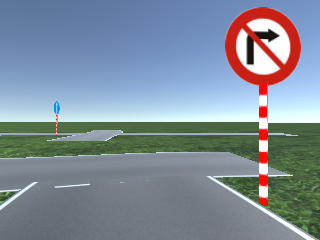-10: (1, 207, 320, 239)
NoRight: (225, 7, 302, 85)
